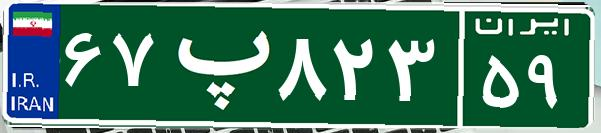2: (330, 28, 385, 110)
3: (385, 28, 445, 110)
5: (475, 38, 525, 113)
6: (57, 26, 110, 107)
7: (110, 28, 158, 105)
8: (273, 28, 330, 110)
9: (525, 38, 570, 115)
پ: (158, 15, 273, 115)
